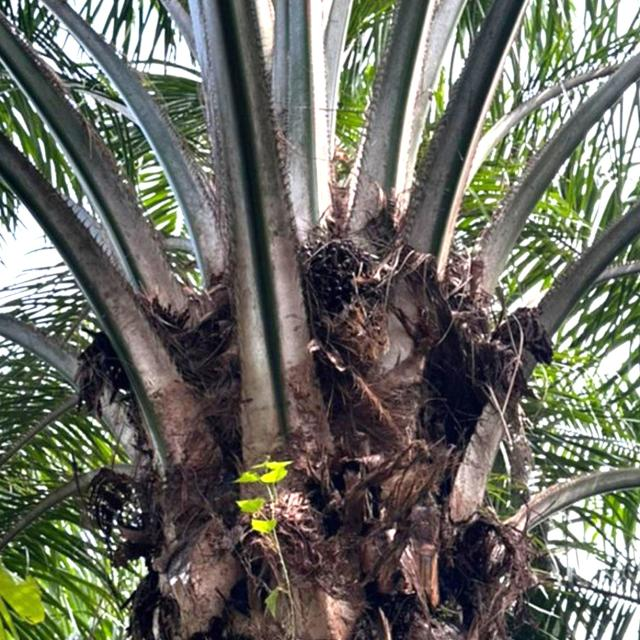unripe: (284, 223, 413, 400)
